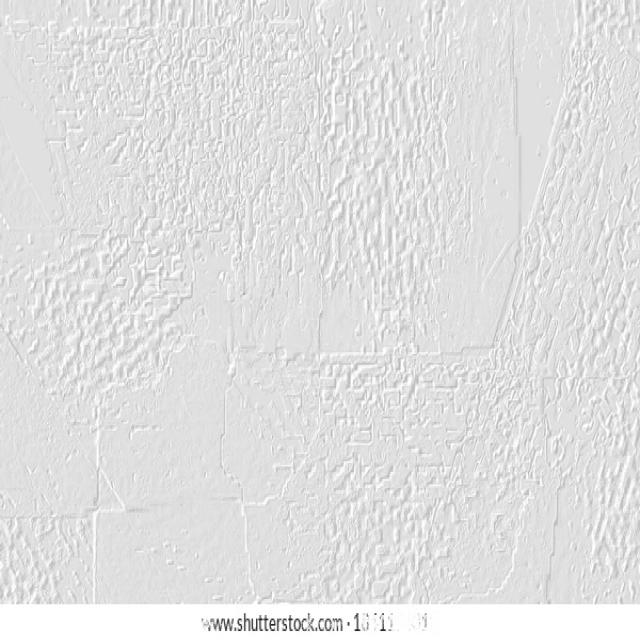rough and patchy surface: (3, 3, 634, 596)
